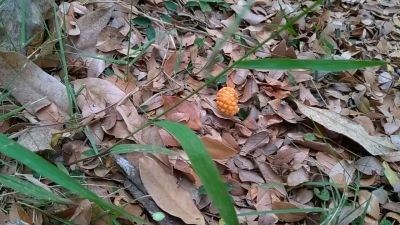eggs: (213, 84, 240, 120)
